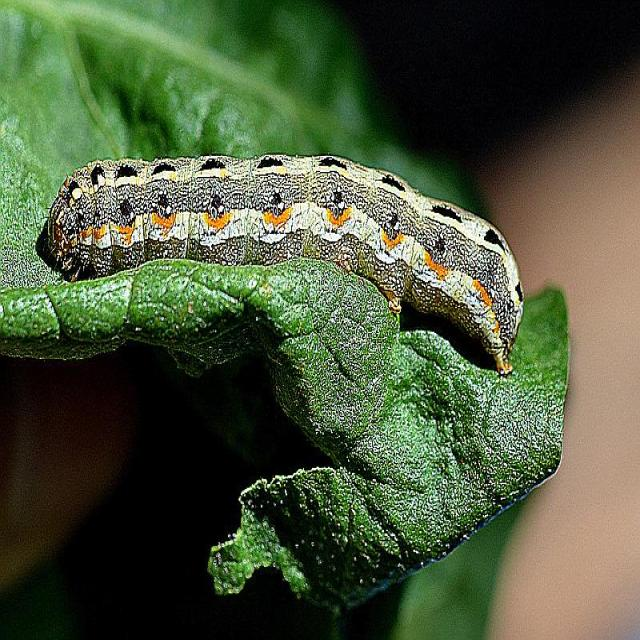Armyworm: (21, 104, 532, 382)
